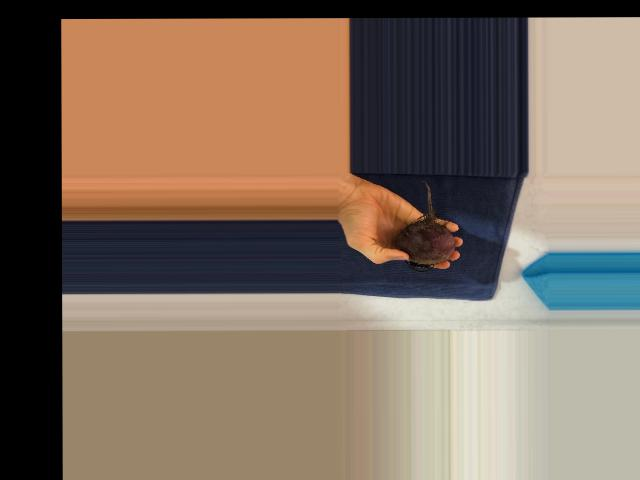beet: (397, 179, 456, 271)
